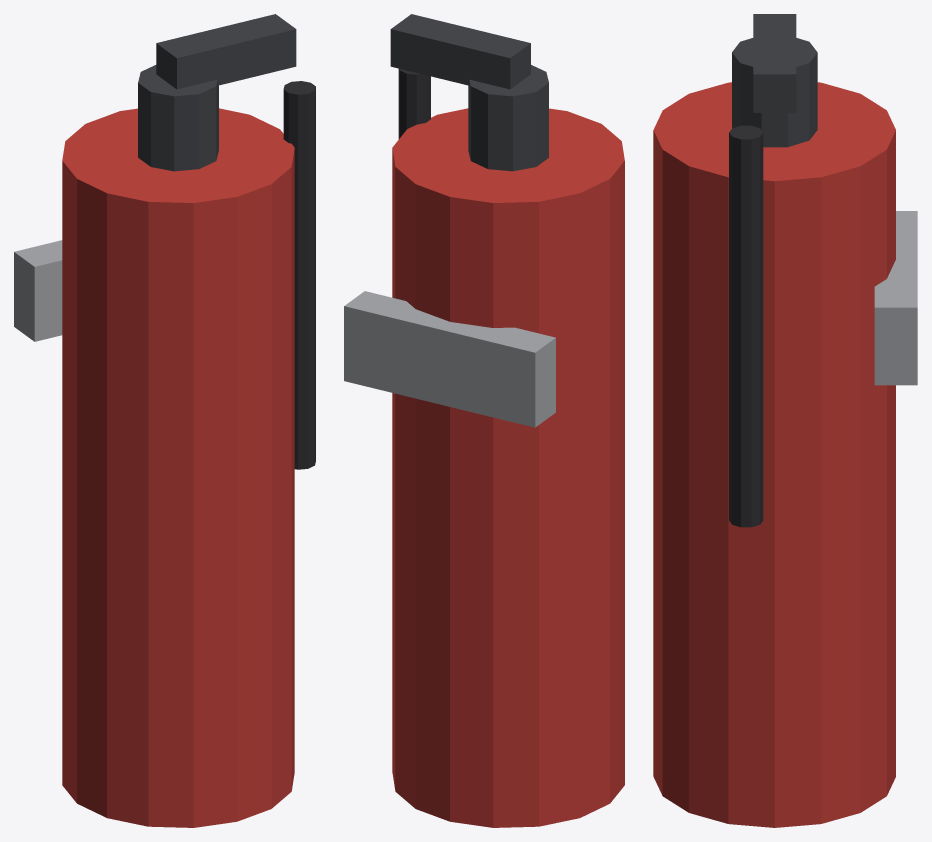
Rendered from extinguisher_wall.glb.
3 renders of one model, left to right at view 1: azimuth 30°, elevation 25°; view 2: azimuth 150°, elevation 25°; view 3: azimuth 270°, elevation 25°, orthographic. The views are drawn at different scales.
Visible parts, largest first — view 1: extinguisher_wall; view 2: extinguisher_wall; view 3: extinguisher_wall.
Boxes of the visible parts, bbox=[...] form: extinguisher_wall: bbox=[14, 14, 315, 827]; extinguisher_wall: bbox=[344, 14, 624, 827]; extinguisher_wall: bbox=[653, 14, 917, 827].
Size of the model in its own units: 0.1864 by 0.585 by 0.185.
